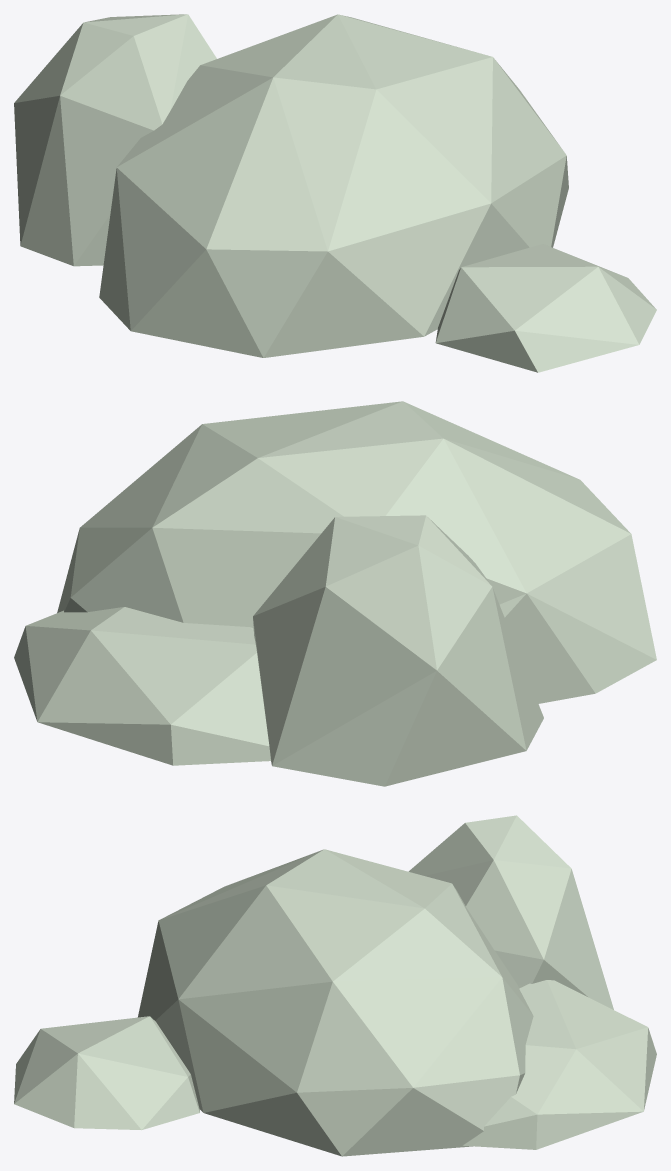
The model's file is SM_EN_Rocks_Medium_Lvl1.fbx.
The picture shows the model from 3 angles, top to bottom: view 1: azimuth 30°, elevation 25°; view 2: azimuth 150°, elevation 25°; view 3: azimuth 270°, elevation 25°; orthographic projection. The views are drawn at different scales.
Parts seen in each view (by area): view 1: Medium Rocks_Lvl1; view 2: Medium Rocks_Lvl1; view 3: Medium Rocks_Lvl1.
Boxes of the visible parts, x1,y1,x2,y2 form: Medium Rocks_Lvl1: [14, 14, 656, 372]; Medium Rocks_Lvl1: [14, 401, 656, 786]; Medium Rocks_Lvl1: [14, 815, 656, 1156].
Size of the model in its own units: 198 by 256 by 76.49.
